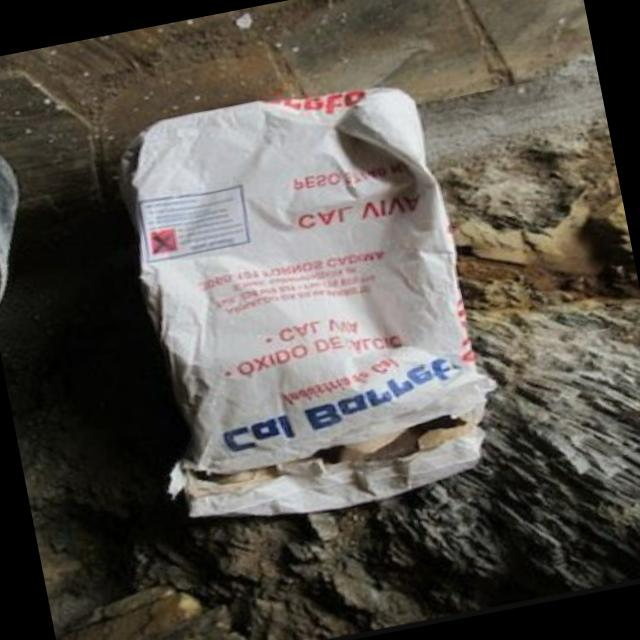KantongSemen: (100, 65, 513, 542)
